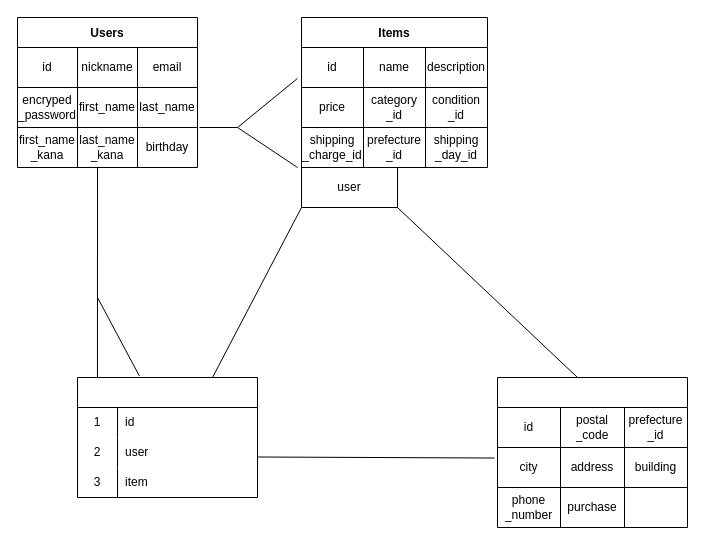
This 705x545 diagram has some shape labels left out. The shapes that lost their labels are listed below. From the top down, each one's box as (x1, y1, x2, y2) in pixels, then its label:
(76, 376, 258, 498): Purchases
(496, 376, 688, 528): Shipping Addresses
